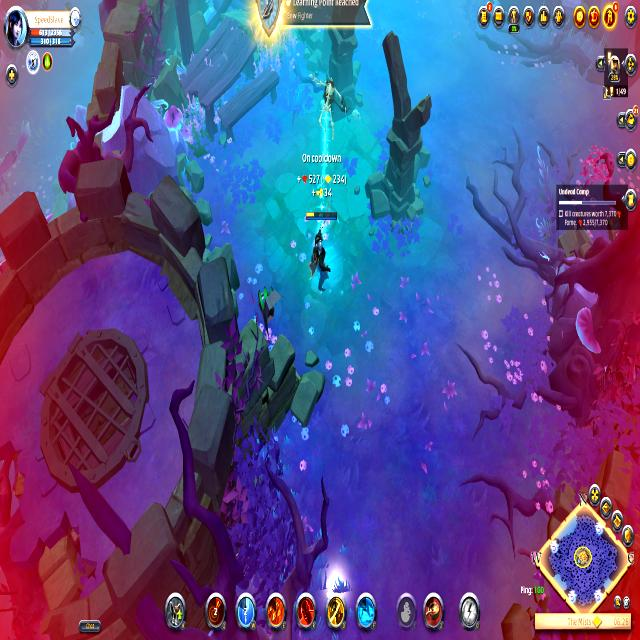red: (299, 203, 339, 292)
stone: (324, 564, 346, 600)
